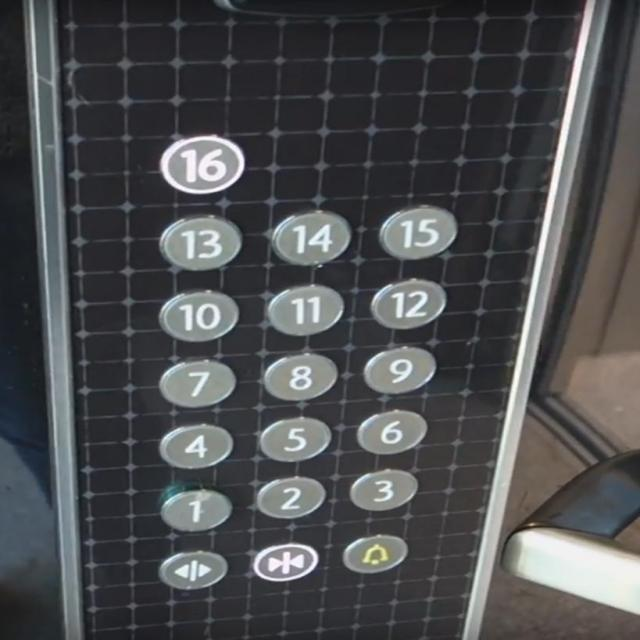1: (156, 488, 233, 533)
10: (154, 286, 238, 344)
11: (264, 283, 344, 337)
12: (368, 276, 448, 329)
13: (160, 212, 244, 270)
14: (268, 210, 353, 268)
15: (375, 203, 460, 261)
16: (158, 132, 244, 195)
2: (254, 476, 328, 519)
3: (348, 467, 418, 511)
4: (156, 422, 234, 470)
5: (258, 416, 334, 463)
6: (356, 408, 428, 454)
7: (156, 358, 235, 408)
8: (262, 351, 338, 401)
9: (361, 344, 438, 394)
alarm: (341, 534, 408, 574)
close: (248, 541, 320, 582)
open: (155, 549, 229, 591)
